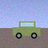vehicle: (13, 21, 40, 39)
